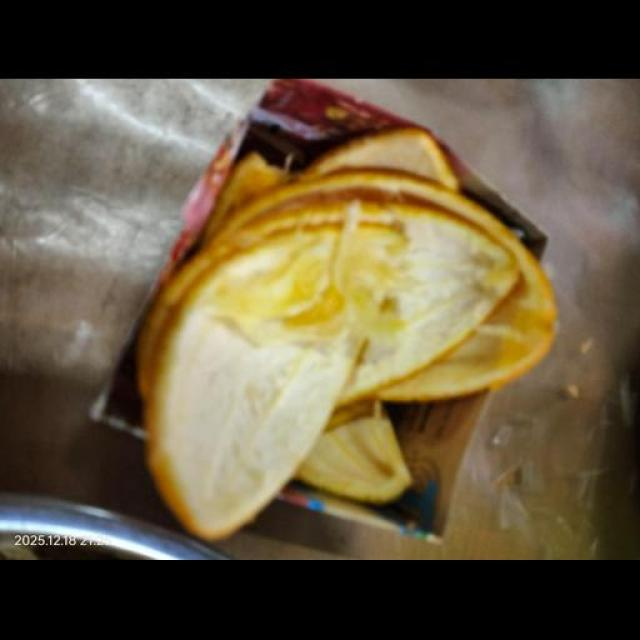organic: (139, 81, 580, 565)
